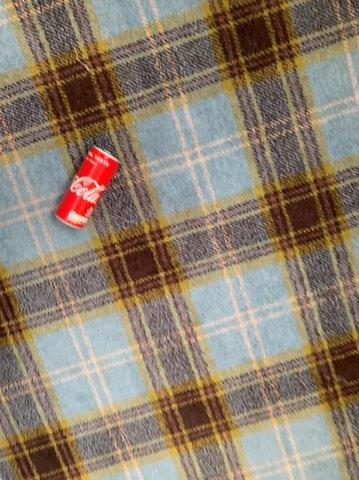kaleng: (56, 147, 119, 227)
